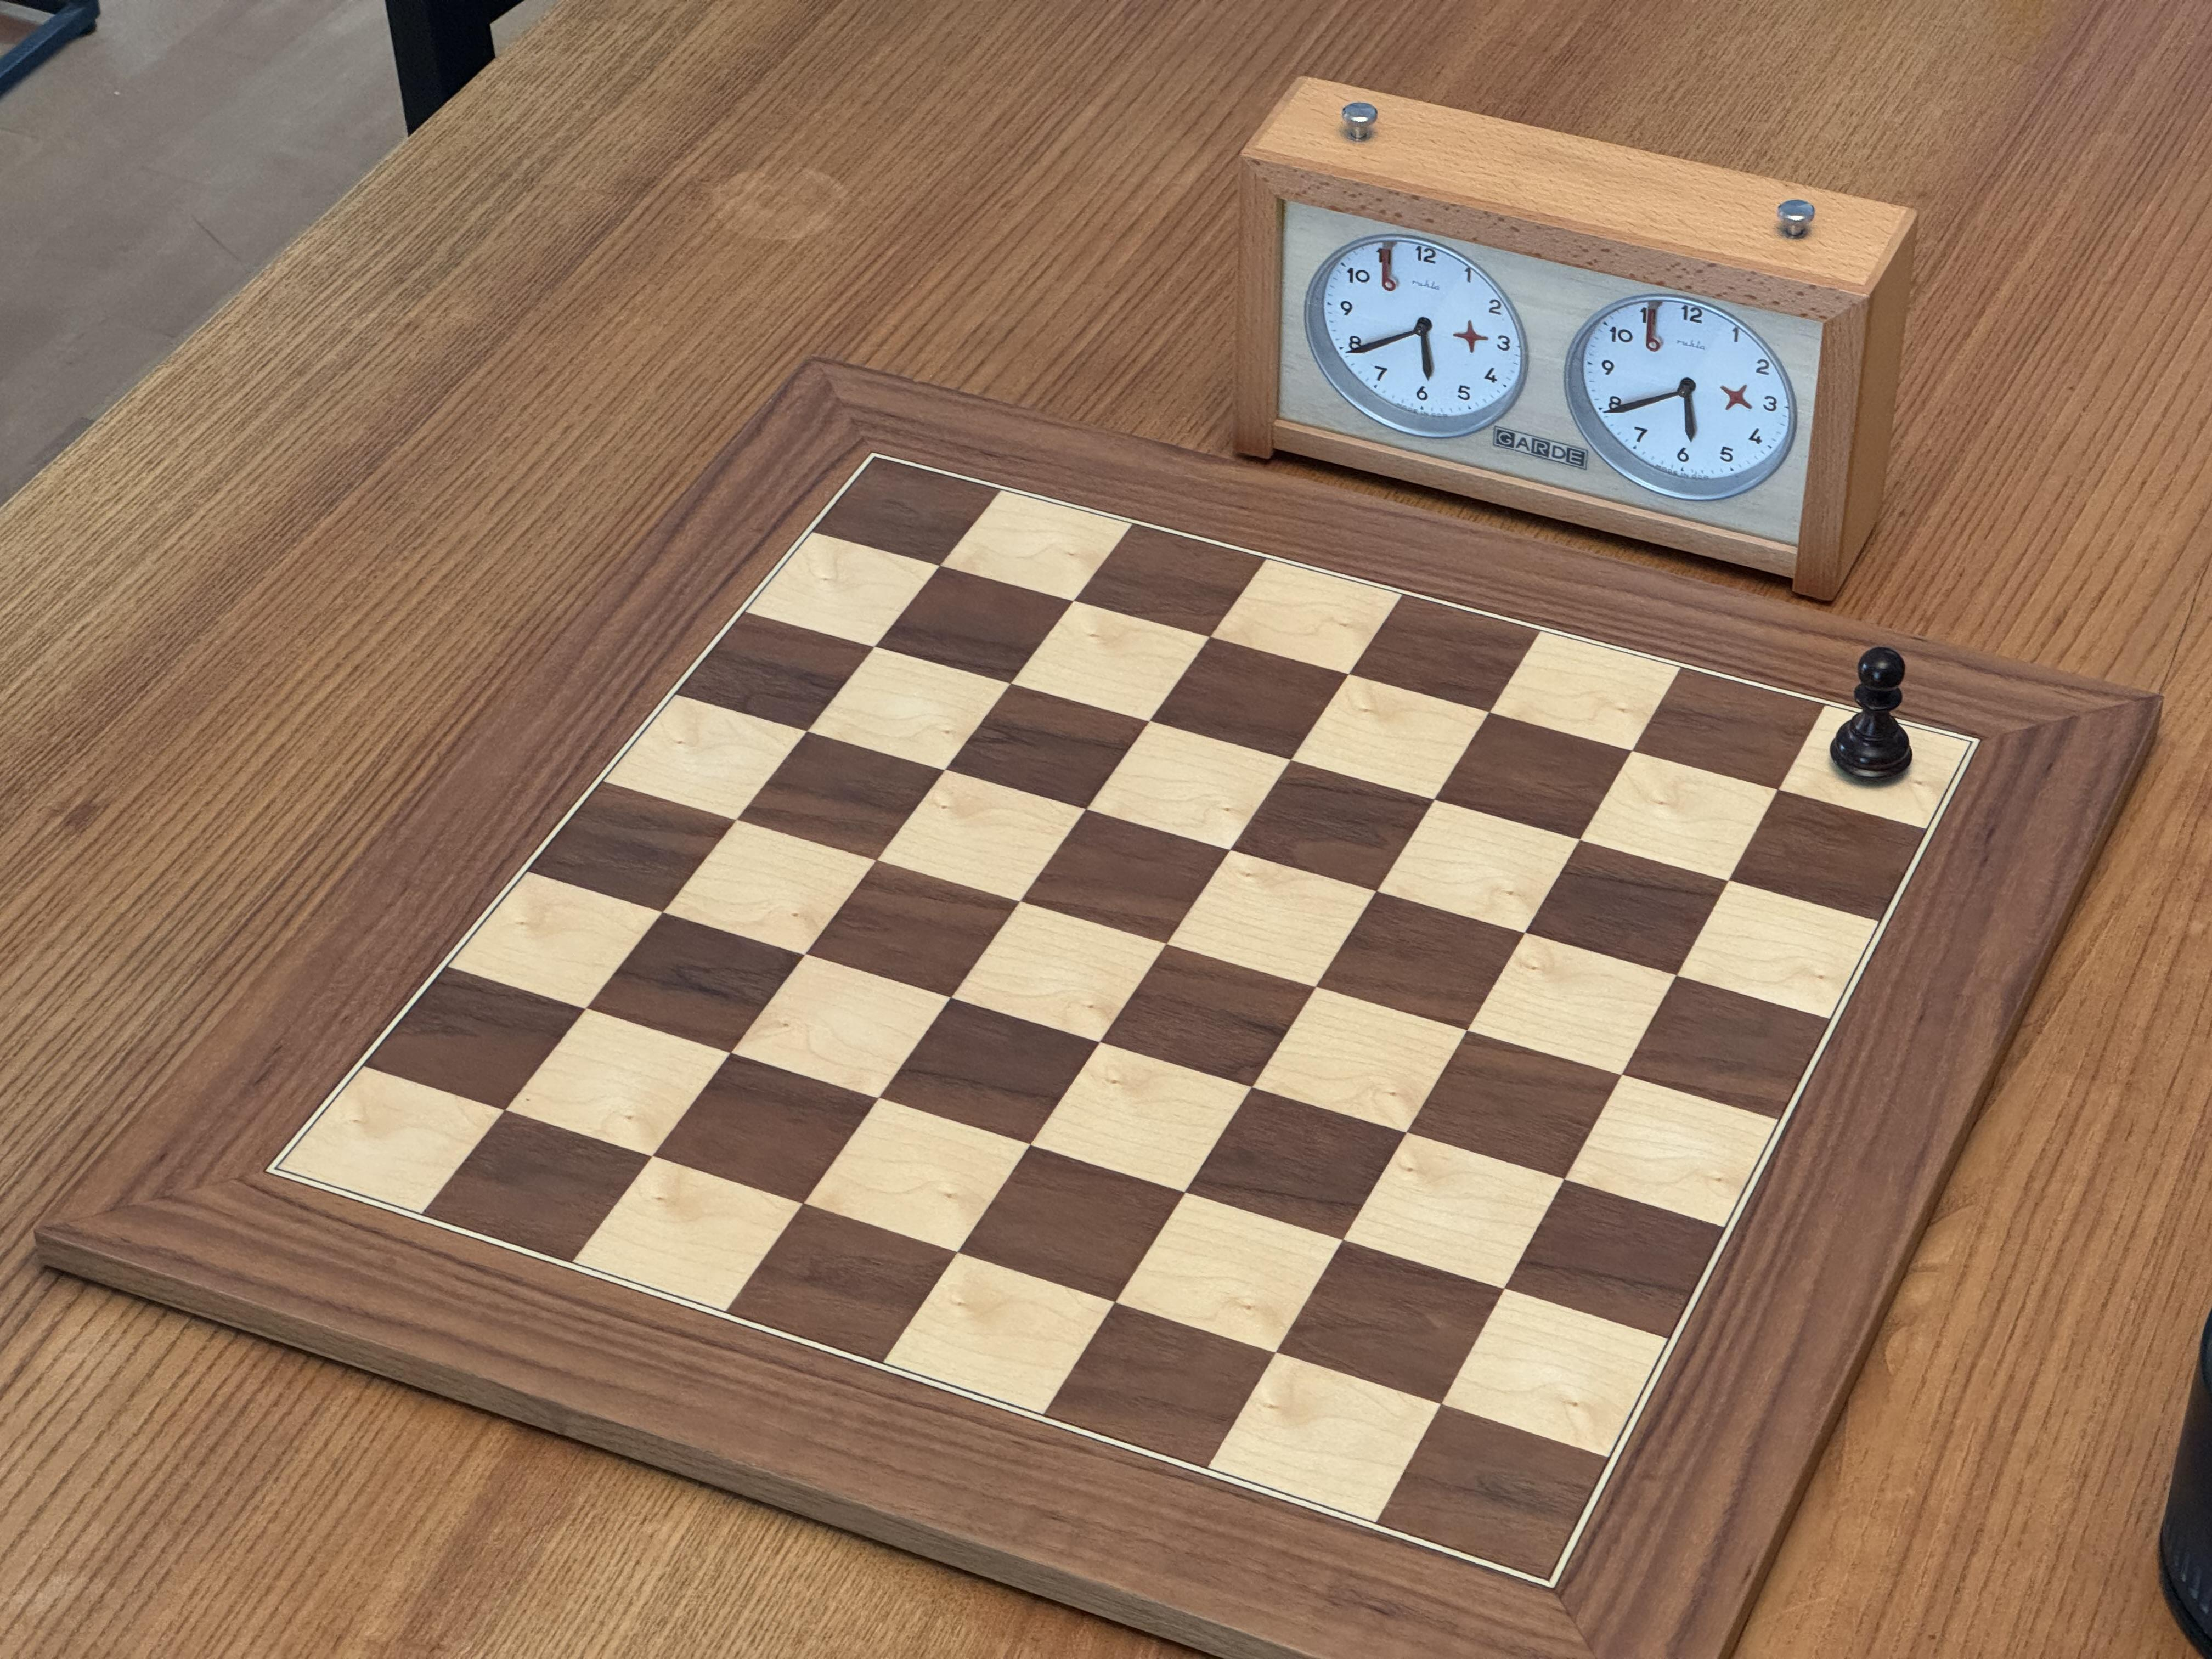Black Pawn: (1827, 643, 1918, 789)
